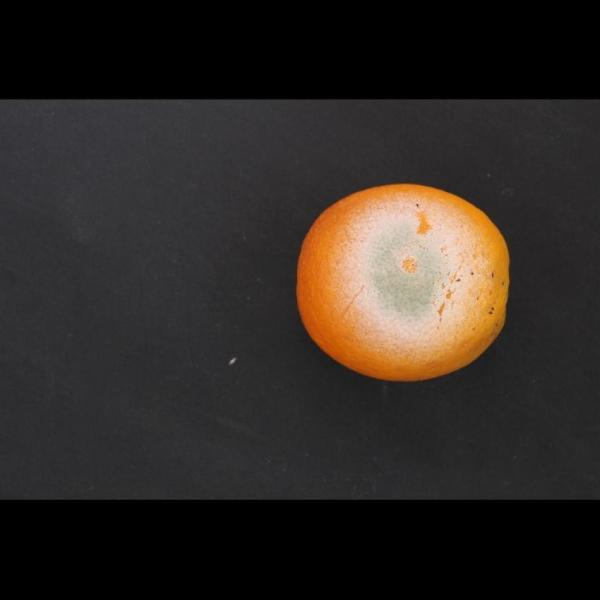Moho verde: (281, 180, 530, 392)
